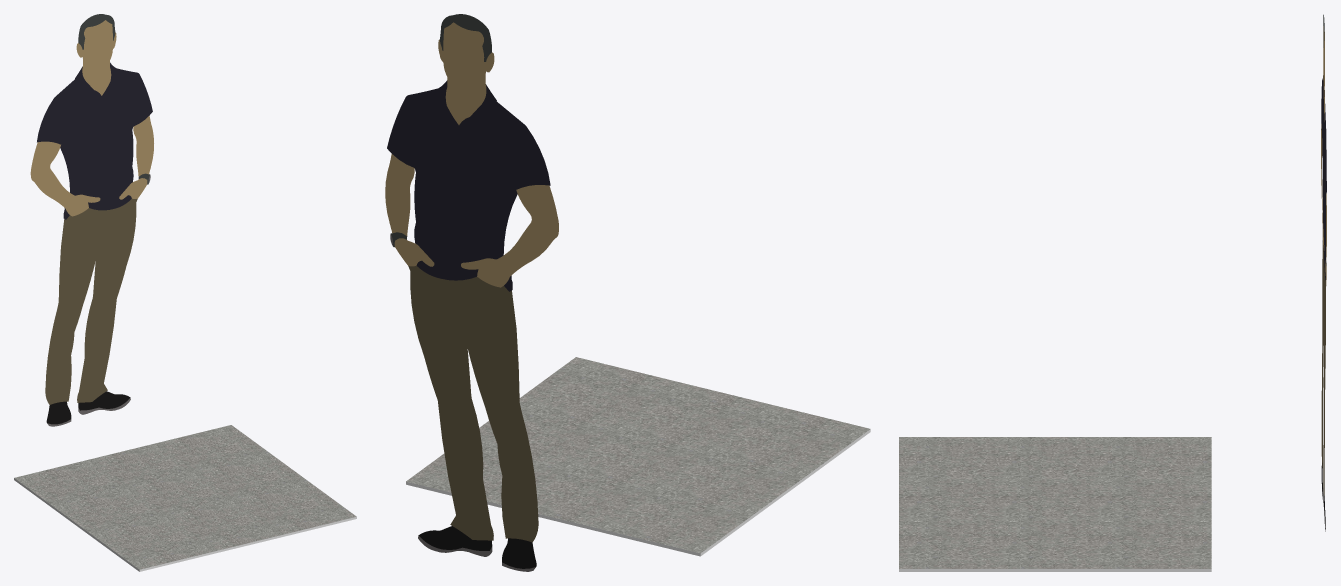
File: pathtile_1.dae
The picture shows the model from 3 angles, left to right: view 1: azimuth 30°, elevation 25°; view 2: azimuth 150°, elevation 25°; view 3: azimuth 270°, elevation 25°; orthographic projection. The views are drawn at different scales.
Parts seen in each view (by area): view 1: SketchUp (×2), Chris (×9); view 2: Chris (×10), SketchUp (×2); view 3: SketchUp (×2), Chris (×2).
Part boxes in pixels (<box>): SketchUp (×2): <box>14,425,356,571</box>; Chris (×9): <box>30,14,153,424</box>; Chris (×10): <box>385,14,558,568</box>; SketchUp (×2): <box>406,357,870,556</box>; SketchUp (×2): <box>899,437,1211,571</box>; Chris (×2): <box>1321,75,1326,495</box>.
Size of the model in its own units: 39.37 by 53.88 by 69.5.
Materials: 8 (1 with a texture image).
